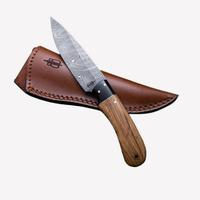knife: (47, 14, 152, 180)
